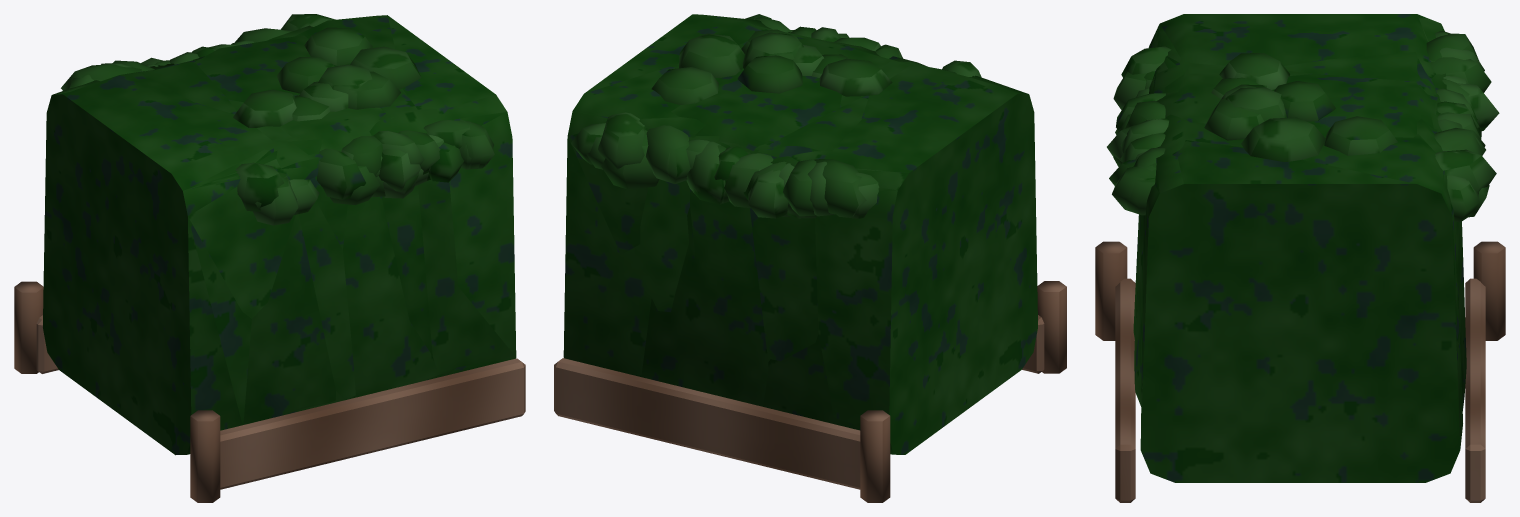
Rendered from border.glb.
3 views of the same model, side by side, from view 1: azimuth 30°, elevation 25°; view 2: azimuth 150°, elevation 25°; view 3: azimuth 270°, elevation 25° (orthographic). The views are drawn at different scales.
Visible parts, largest first — view 1: border_0, border_3, border_4, border_1, border_2; view 2: border_0, border_2, border_3, border_1, border_4; view 3: border_0, border_3, border_1, border_2, border_4.
Part boxes in pixels (x1,y1,x2,y2): border_0: (14, 52, 525, 502); border_3: (61, 28, 515, 377); border_4: (154, 15, 516, 454); border_1: (101, 14, 495, 454); border_2: (112, 35, 494, 413); border_0: (554, 26, 1066, 502); border_2: (601, 14, 1001, 426); border_3: (563, 14, 1027, 454); border_1: (576, 14, 1018, 361); border_4: (567, 17, 895, 216); border_0: (1095, 14, 1505, 502); border_3: (1113, 14, 1485, 448); border_1: (1109, 19, 1496, 406); border_2: (1112, 24, 1491, 410); border_4: (1107, 24, 1477, 445).
Size of the model in its own units: 1.03 by 0.9699 by 1.02.
Materials: 1 (1 with a texture image).
